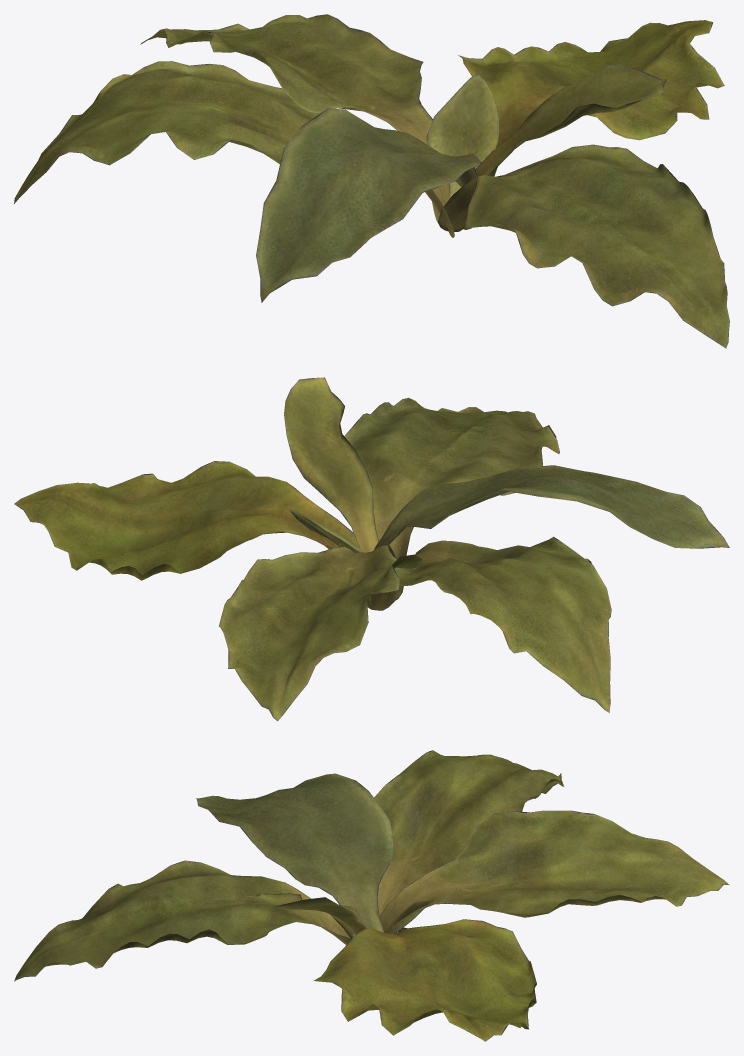
The model's file is crystalline_iceplant_e.gltf.
3 renders of one model, top to bottom at view 1: azimuth 30°, elevation 25°; view 2: azimuth 150°, elevation 25°; view 3: azimuth 270°, elevation 25°, orthographic. The views are drawn at different scales.
Parts seen in each view (by area): view 1: crystalline_iceplant_b_LOD0; view 2: crystalline_iceplant_b_LOD0; view 3: crystalline_iceplant_b_LOD0.
Boxes of the visible parts, left/top/right/bottom form: crystalline_iceplant_b_LOD0: left=14, top=14, right=729, bottom=348; crystalline_iceplant_b_LOD0: left=14, top=377, right=729, bottom=721; crystalline_iceplant_b_LOD0: left=14, top=750, right=729, bottom=1041.
Bounding box in the file's own units: 0.2802 × 0.0659 × 0.3063.
Materials: 1 (1 with a texture image).
